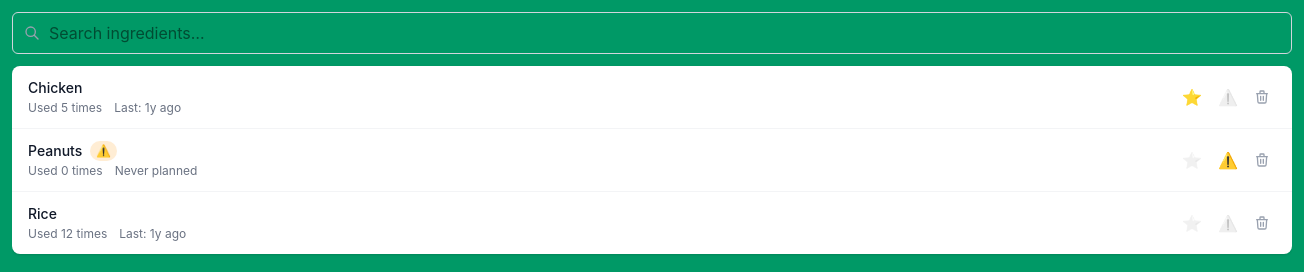
IngredientsList › shows confirmation when delete is clicked
Click the button named "Delete Rice".
click(1262, 223)  # box [1248,209,1276,237]
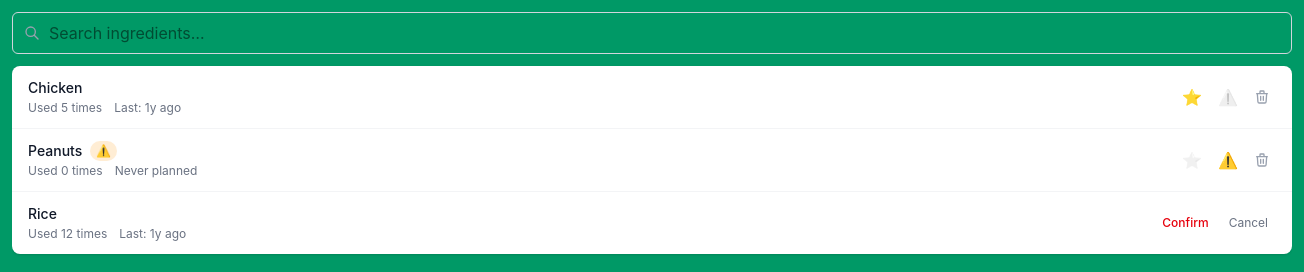
Expected: the button "Confirm" is shown, [1154,211,1217,235]
Expected: the button "Cancel" is shown, [1221,211,1276,235]
